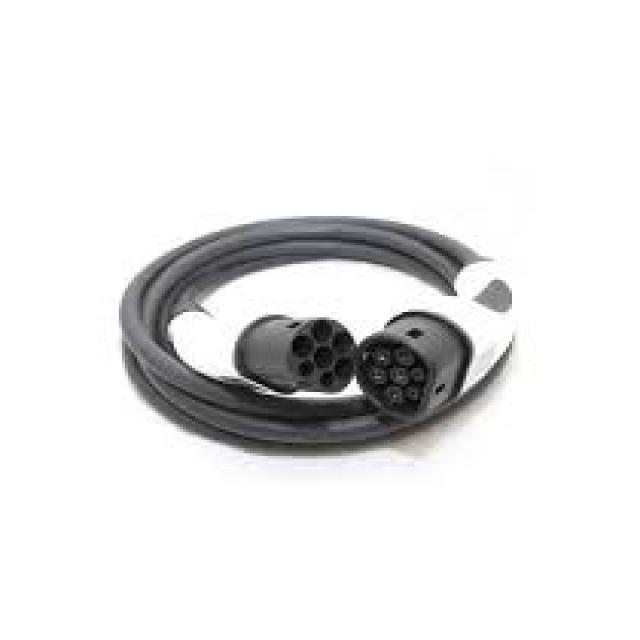Type 2: (359, 314, 457, 458)
